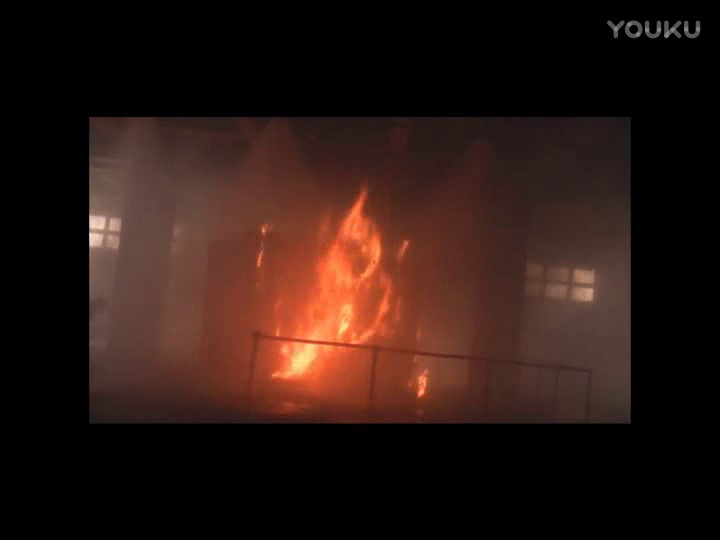fire: (273, 190, 427, 380)
